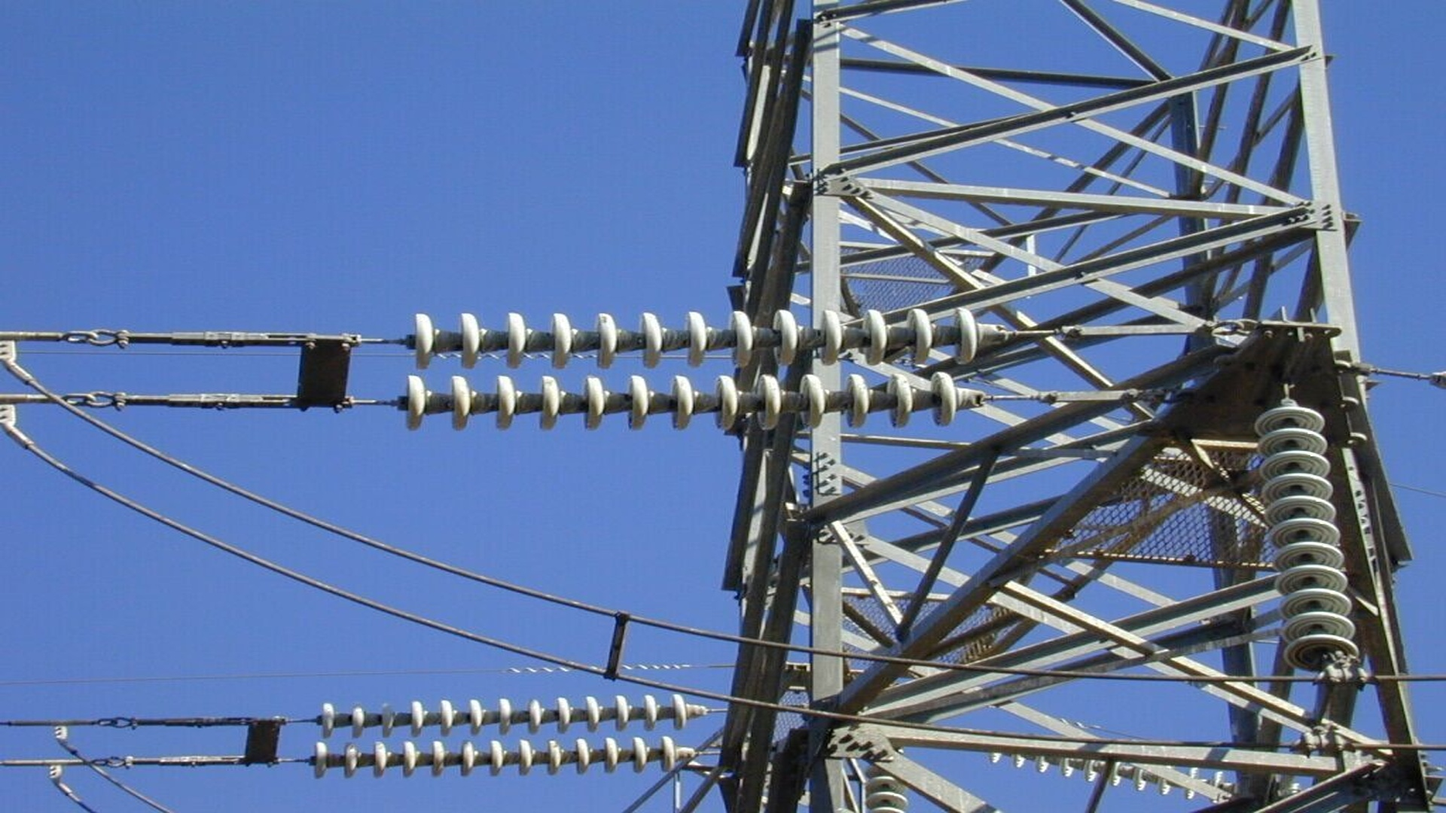insulator: (397, 301, 984, 435), (303, 688, 691, 782), (1249, 399, 1364, 678), (987, 749, 1225, 805)
